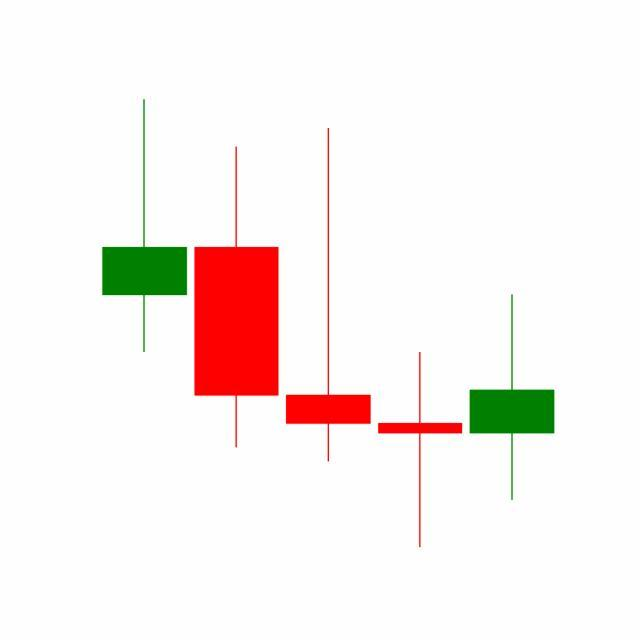Spinning Top: (374, 350, 468, 550)
